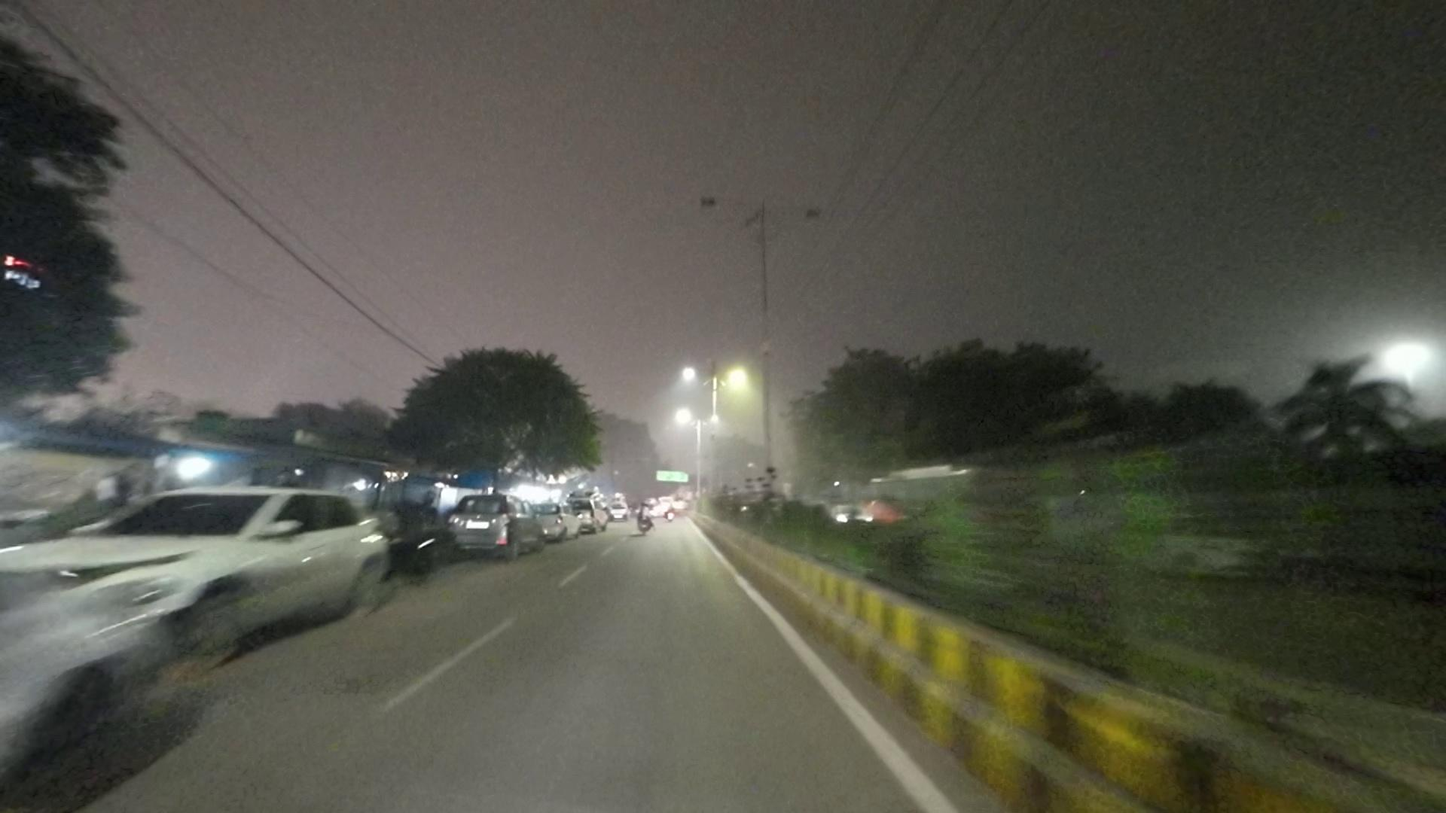streetlight: (699, 195, 759, 213), (767, 204, 824, 222)
